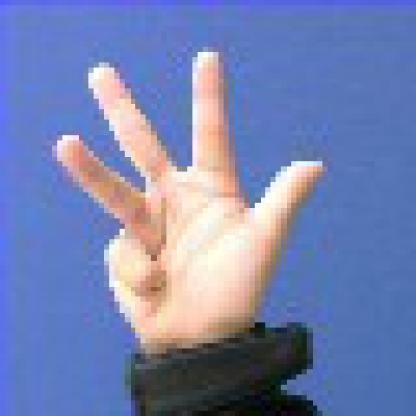nine: (28, 25, 332, 370)
